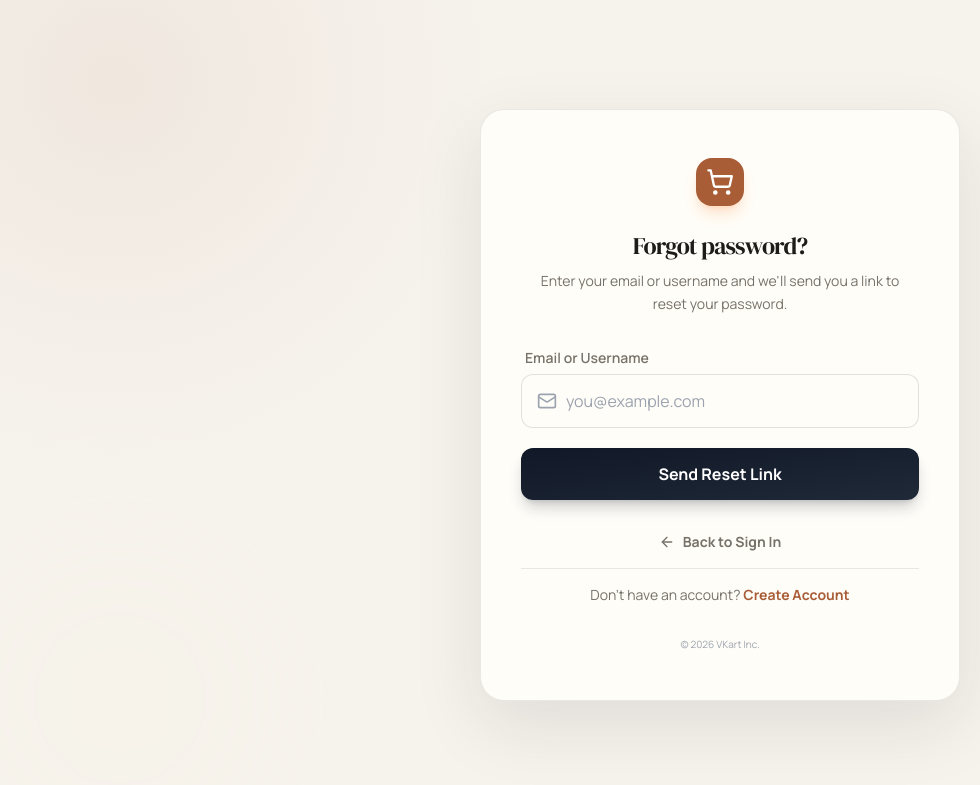
Test: ForgotPassword Component › submits trimmed email to /api/forgot endpoint
Type "  test@example.com  " into the field with placeholder "you@example.com" at [720, 401], box [521, 374, 919, 428]
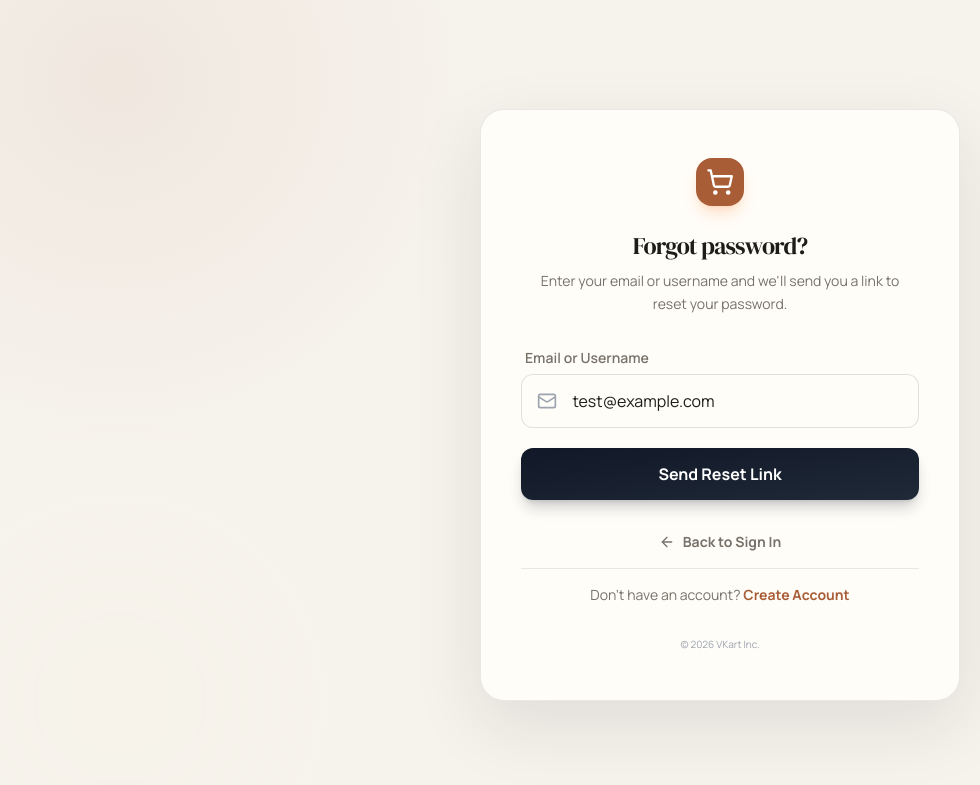
Click the button "Send Reset Link" at [720, 474], box [521, 448, 919, 500]
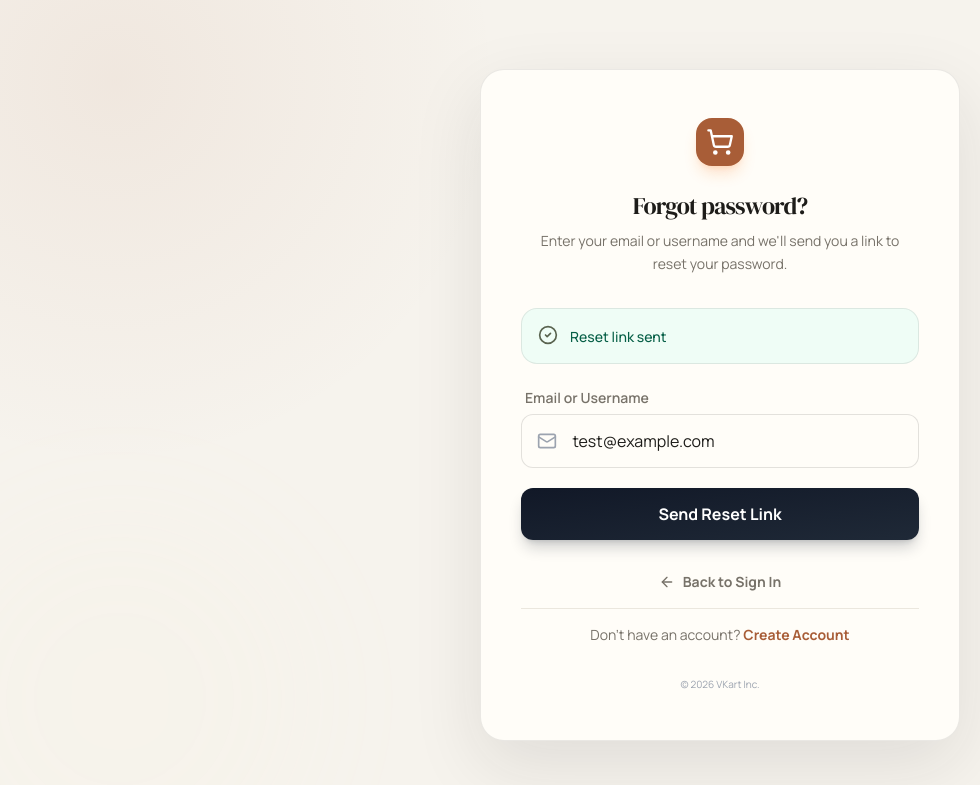
Expected: the text "Reset link sent" is shown, [570, 325, 667, 347]
